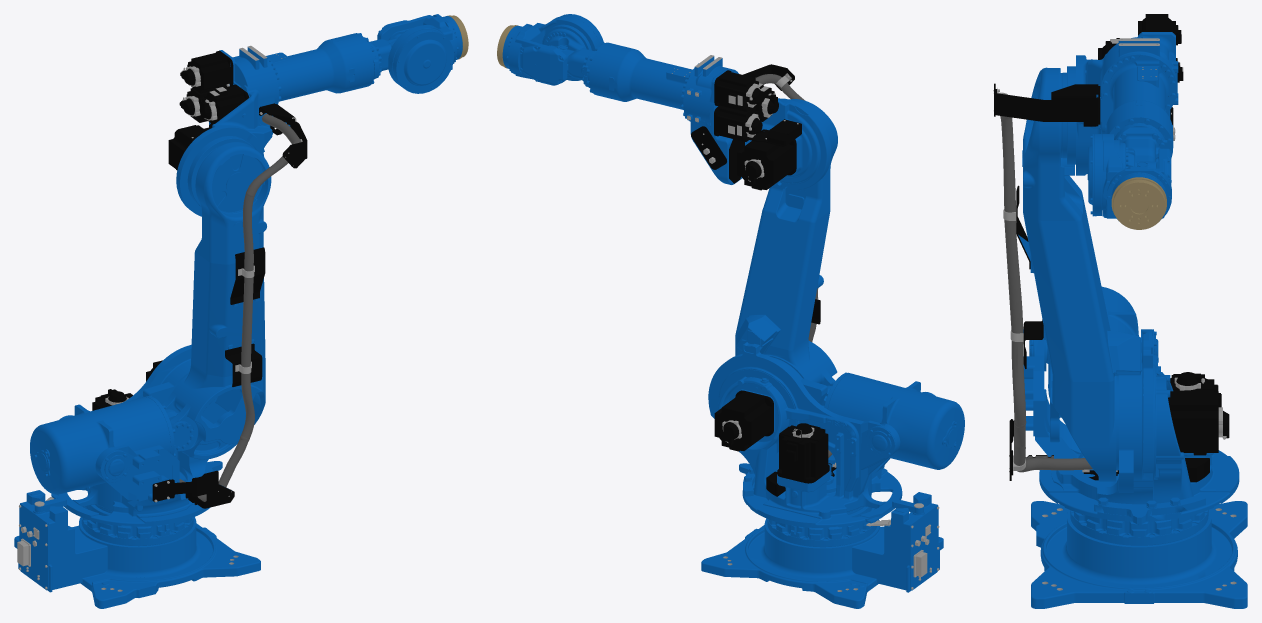
Rendered from Yaskawa_GP280.glb.
3 views of the same model, side by side, from view 1: azimuth 30°, elevation 25°; view 2: azimuth 150°, elevation 25°; view 3: azimuth 270°, elevation 25° (orthographic). The views are drawn at different scales.
Parts seen in each view (by area): view 1: link_2, link_1, link_3, link_0, link_4, link_5; view 2: link_1, link_3, link_0, link_2, link_5, link_4; view 3: link_2, link_1, link_0, link_3, link_4, link_5, link_6.
Part boxes in pixels (x1,y1,x2,y2): link_2: [162, 142, 271, 459]; link_1: [30, 344, 249, 526]; link_3: [168, 33, 378, 216]; link_0: [14, 490, 260, 608]; link_4: [364, 29, 453, 93]; link_5: [377, 14, 462, 86]; link_1: [708, 342, 964, 527]; link_3: [586, 42, 831, 190]; link_0: [701, 492, 943, 608]; link_2: [735, 99, 837, 405]; link_5: [502, 16, 600, 85]; link_4: [542, 14, 603, 87]; link_2: [1000, 67, 1141, 481]; link_1: [1009, 286, 1239, 525]; link_0: [1031, 501, 1247, 608]; link_3: [993, 14, 1183, 175]; link_4: [1087, 127, 1167, 216]; link_5: [1102, 134, 1171, 219]; link_6: [1111, 177, 1166, 229].
Size of the model in its own units: 2.1 by 2.2 by 0.8636.
